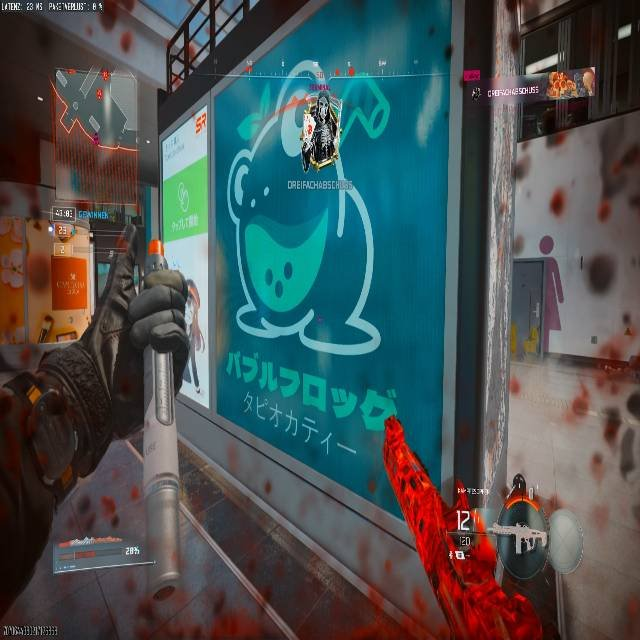player: (488, 473, 583, 638)
